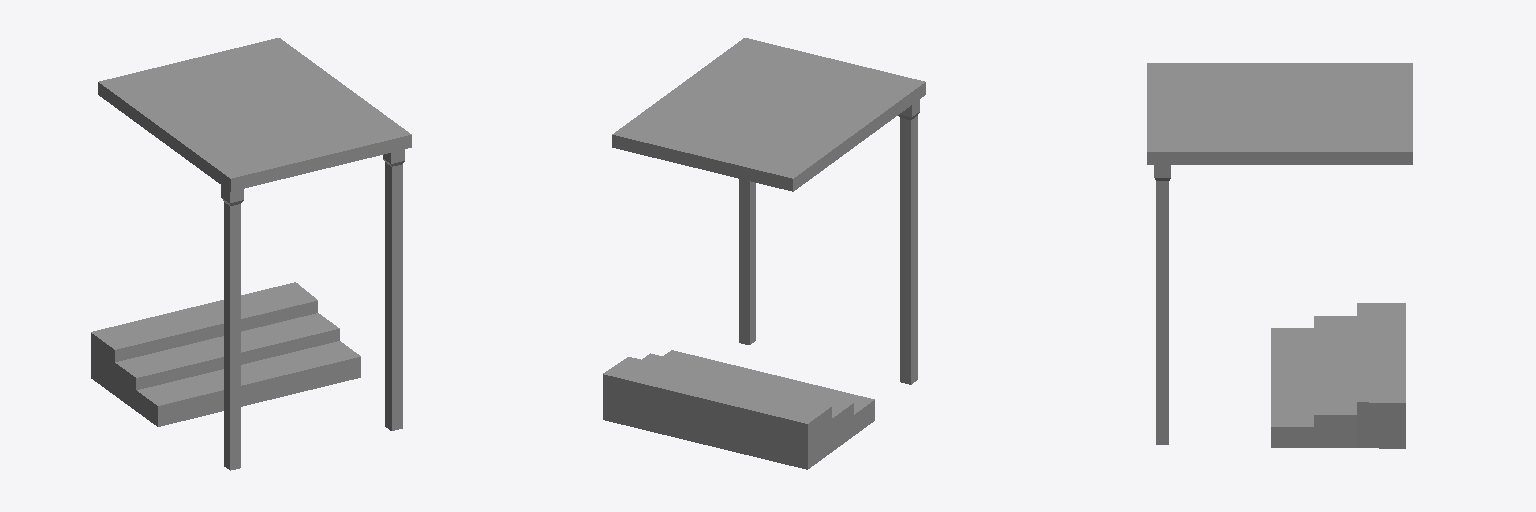
The model's file is Stairs_Roof.obj.
3 views of the same model, side by side, from view 1: azimuth 30°, elevation 25°; view 2: azimuth 150°, elevation 25°; view 3: azimuth 270°, elevation 25° (orthographic).
Visible parts, largest first — view 1: Stairs_Roof_Cube.006; view 2: Stairs_Roof_Cube.006; view 3: Stairs_Roof_Cube.006.
Boxes of the visible parts, x1=… form: Stairs_Roof_Cube.006: x1=91, y1=38, x2=411, y2=470; Stairs_Roof_Cube.006: x1=603, y1=38, x2=925, y2=469; Stairs_Roof_Cube.006: x1=1147, y1=63, x2=1412, y2=448.
Size of the model in its own units: 0.8455 by 1.17 by 0.9463.